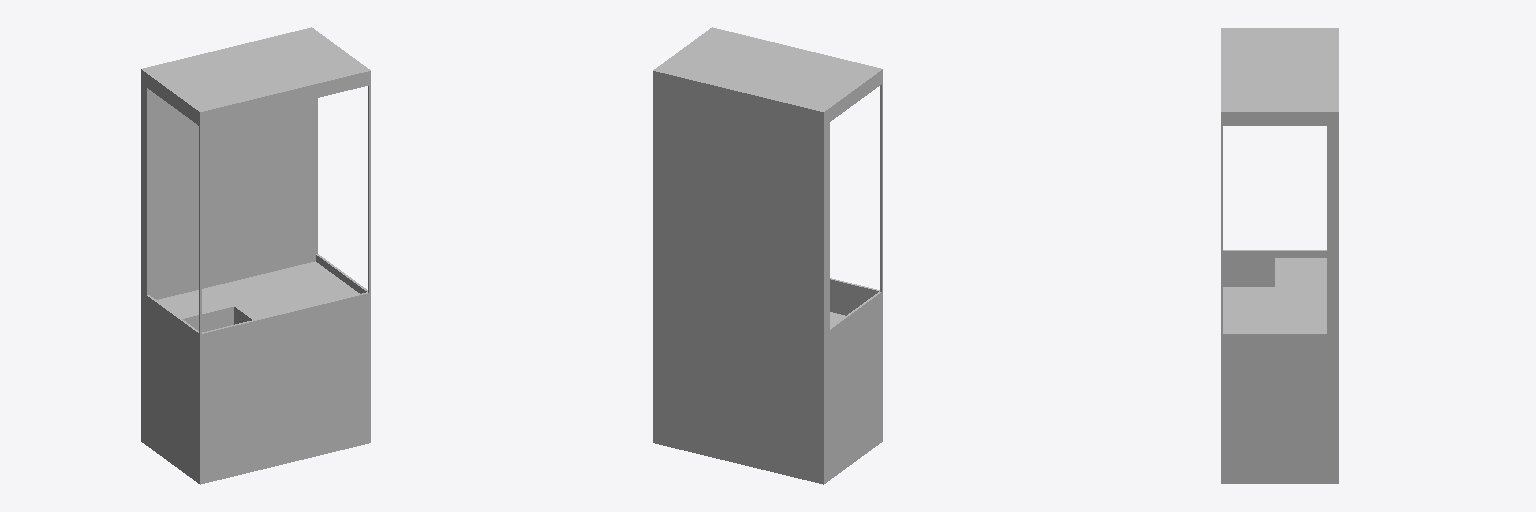
The model's file is claw machine.obj.
3 renders of one model, left to right at view 1: azimuth 30°, elevation 25°; view 2: azimuth 150°, elevation 25°; view 3: azimuth 270°, elevation 25°, orthographic.
Visible parts, largest first — view 1: Plane; view 2: Plane; view 3: Plane.
Boxes of the visible parts, x1,y1,x2,y2 form: Plane: [141, 27, 370, 484]; Plane: [653, 27, 882, 484]; Plane: [1221, 28, 1338, 483].
Bounding box in the file's own units: 5 × 10.4 × 3.